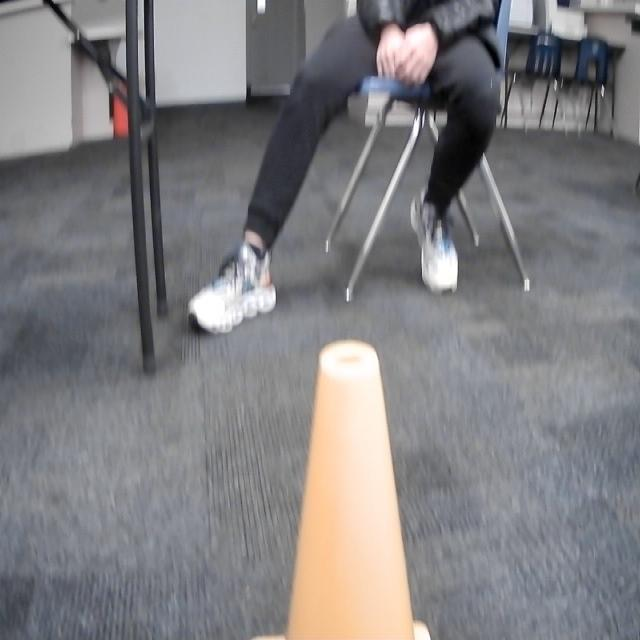cone: (252, 340, 436, 640)
